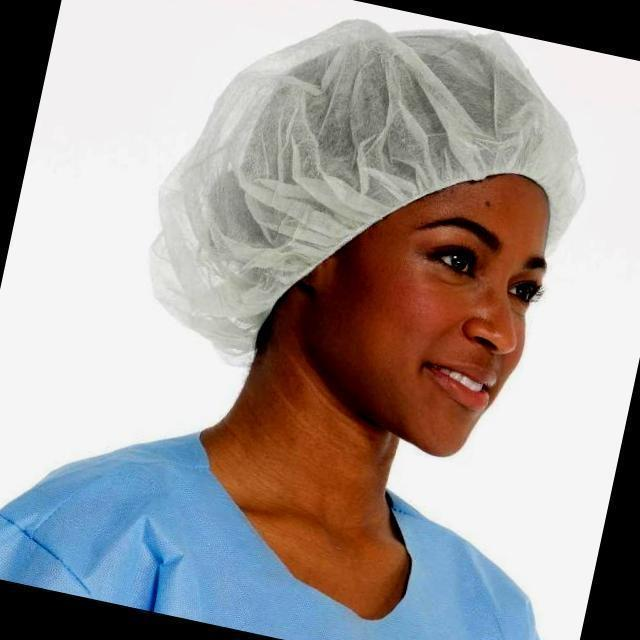gloves: (243, 38, 616, 206)
no_hairnet: (364, 254, 510, 392)
